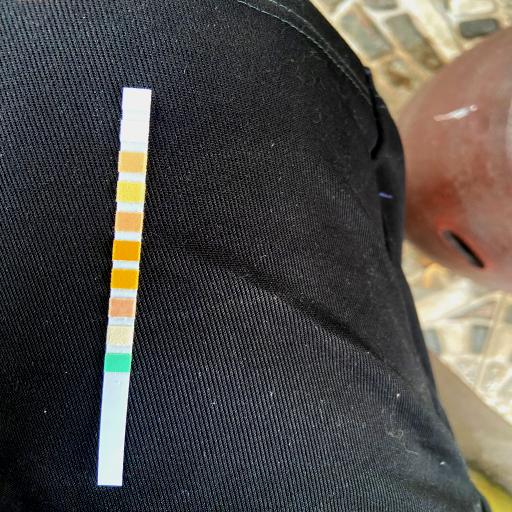Bilirubin: (108, 327, 132, 345)
Blood: (114, 242, 139, 260)
Glucose: (106, 354, 130, 370)
Ketone: (110, 300, 134, 318)
Leukocytes: (124, 90, 152, 110)
Nitrite: (120, 122, 148, 142)
Protein: (118, 184, 144, 202)
SpGravity: (112, 270, 138, 288)
Urobilinogen: (120, 154, 146, 172)
pH: (116, 213, 142, 231)
strip: (98, 87, 152, 486)
